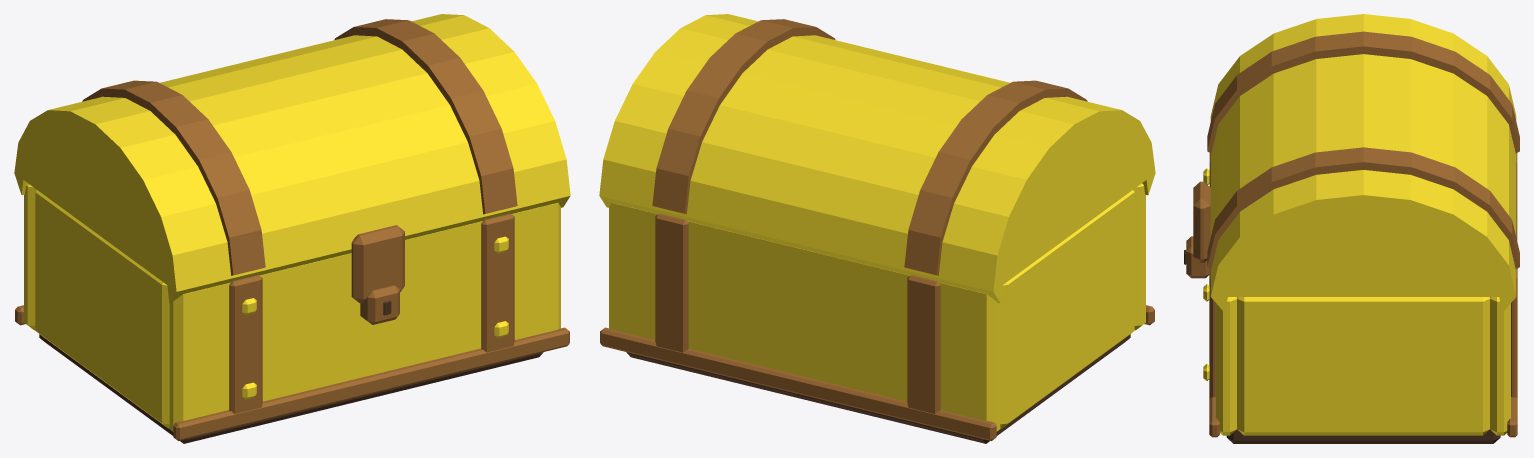
The model's file is symbol_goldchest.glb.
3 views of the same model, side by side, from view 1: azimuth 30°, elevation 25°; view 2: azimuth 150°, elevation 25°; view 3: azimuth 270°, elevation 25° (orthographic). The views are drawn at different scales.
Parts seen in each view (by area): view 1: SYMBOL_goldchest_MOBP_gold_chest_arched_lid, SYMBOL_goldchest_MOBP_gold_chest_front, SYMBOL_goldchest_MOBP_gold_chest_left, SYMBOL_goldchest_MOBP_gold_chest_lid_end_-1, SYMBOL_goldchest_MOBP_gold_chest_lid_band_0.039, SYMBOL_goldchest_MOBP_gold_chest_lid_band_-0.039, SYMBOL_goldchest_MOBP_gold_chest_lower_rail_-0.0424, SYMBOL_goldchest_MOBP_gold_chest_body_strap_-0.039_-0.042600, SYMBOL_goldchest_MOBP_gold_chest_body_strap_0.039_-0.0426000, SYMBOL_goldchest_MOBP_gold_chest_lid_latch, SYMBOL_goldchest_MOBP_gold_chest_bottom, SYMBOL_goldchest_MOBP_gold_chest_back (+1 smaller); view 2: SYMBOL_goldchest_MOBP_gold_chest_arched_lid, SYMBOL_goldchest_MOBP_gold_chest_back, SYMBOL_goldchest_MOBP_gold_chest_left, SYMBOL_goldchest_MOBP_gold_chest_lid_end_-1, SYMBOL_goldchest_MOBP_gold_chest_lid_band_0.039, SYMBOL_goldchest_MOBP_gold_chest_lid_band_-0.039, SYMBOL_goldchest_MOBP_gold_chest_lower_rail_0.0424, SYMBOL_goldchest_MOBP_gold_chest_body_strap_-0.039_0.0426000, SYMBOL_goldchest_MOBP_gold_chest_body_strap_0.039_0.04260000, SYMBOL_goldchest_MOBP_gold_chest_bottom, SYMBOL_goldchest_MOBP_gold_chest_front; view 3: SYMBOL_goldchest_MOBP_gold_chest_arched_lid, SYMBOL_goldchest_MOBP_gold_chest_right, SYMBOL_goldchest_MOBP_gold_chest_lid_end_1, SYMBOL_goldchest_MOBP_gold_chest_lid_band_-0.039, SYMBOL_goldchest_MOBP_gold_chest_lid_band_0.039, SYMBOL_goldchest_MOBP_gold_chest_back, SYMBOL_goldchest_MOBP_gold_chest_front, SYMBOL_goldchest_MOBP_gold_chest_bottom, SYMBOL_goldchest_MOBP_gold_chest_lid_latch, SYMBOL_goldchest_MOBP_gold_chest_body_strap_0.039_-0.0426000, SYMBOL_goldchest_MOBP_gold_chest_body_strap_0.039_0.04260000, SYMBOL_goldchest_MOBP_gold_chest_latch_keeper (+2 smaller).
Part boxes in pixels (<box>): SYMBOL_goldchest_MOBP_gold_chest_arched_lid: <box>14,14,570,303</box>; SYMBOL_goldchest_MOBP_gold_chest_front: <box>169,203,560,431</box>; SYMBOL_goldchest_MOBP_gold_chest_left: <box>35,190,169,428</box>; SYMBOL_goldchest_MOBP_gold_chest_lid_end_-1: <box>15,110,175,290</box>; SYMBOL_goldchest_MOBP_gold_chest_lid_band_0.039: <box>334,19,517,214</box>; SYMBOL_goldchest_MOBP_gold_chest_lid_band_-0.039: <box>82,80,265,275</box>; SYMBOL_goldchest_MOBP_gold_chest_lower_rail_-0.0424: <box>173,327,569,440</box>; SYMBOL_goldchest_MOBP_gold_chest_body_strap_-0.039_-0.042600: <box>229,275,262,413</box>; SYMBOL_goldchest_MOBP_gold_chest_body_strap_0.039_-0.0426000: <box>481,213,514,352</box>; SYMBOL_goldchest_MOBP_gold_chest_lid_latch: <box>351,225,404,303</box>; SYMBOL_goldchest_MOBP_gold_chest_bottom: <box>39,334,543,443</box>; SYMBOL_goldchest_MOBP_gold_chest_back: <box>24,183,36,330</box>; SYMBOL_goldchest_MOBP_gold_chest_arched_lid: <box>599,14,1155,303</box>; SYMBOL_goldchest_MOBP_gold_chest_back: <box>609,203,1000,431</box>; SYMBOL_goldchest_MOBP_gold_chest_left: <box>1000,190,1134,428</box>; SYMBOL_goldchest_MOBP_gold_chest_lid_end_-1: <box>993,110,1153,291</box>; SYMBOL_goldchest_MOBP_gold_chest_lid_band_0.039: <box>652,19,835,214</box>; SYMBOL_goldchest_MOBP_gold_chest_lid_band_-0.039: <box>904,80,1087,275</box>; SYMBOL_goldchest_MOBP_gold_chest_lower_rail_0.0424: <box>600,327,996,440</box>; SYMBOL_goldchest_MOBP_gold_chest_body_strap_-0.039_0.0426000: <box>907,275,940,413</box>; SYMBOL_goldchest_MOBP_gold_chest_body_strap_0.039_0.04260000: <box>655,213,688,352</box>; SYMBOL_goldchest_MOBP_gold_chest_bottom: <box>626,334,1130,443</box>; SYMBOL_goldchest_MOBP_gold_chest_front: <box>1133,183,1145,330</box>; SYMBOL_goldchest_MOBP_gold_chest_arched_lid: <box>1210,14,1516,312</box>; SYMBOL_goldchest_MOBP_gold_chest_right: <box>1237,297,1489,435</box>; SYMBOL_goldchest_MOBP_gold_chest_lid_end_1: <box>1211,195,1516,296</box>; SYMBOL_goldchest_MOBP_gold_chest_lid_band_-0.039: <box>1207,31,1519,153</box>; SYMBOL_goldchest_MOBP_gold_chest_lid_band_0.039: <box>1207,147,1519,268</box>; SYMBOL_goldchest_MOBP_gold_chest_back: <box>1490,297,1510,435</box>; SYMBOL_goldchest_MOBP_gold_chest_front: <box>1216,297,1236,435</box>; SYMBOL_goldchest_MOBP_gold_chest_bottom: <box>1226,429,1500,443</box>; SYMBOL_goldchest_MOBP_gold_chest_lid_latch: <box>1193,181,1210,262</box>; SYMBOL_goldchest_MOBP_gold_chest_body_strap_0.039_-0.0426000: <box>1209,269,1215,397</box>; SYMBOL_goldchest_MOBP_gold_chest_body_strap_0.039_0.04260000: <box>1511,269,1517,397</box>; SYMBOL_goldchest_MOBP_gold_chest_latch_keeper: <box>1186,236,1209,278</box>.
Bounding box in the file's own units: 0.122 × 0.0834 × 0.0956.
